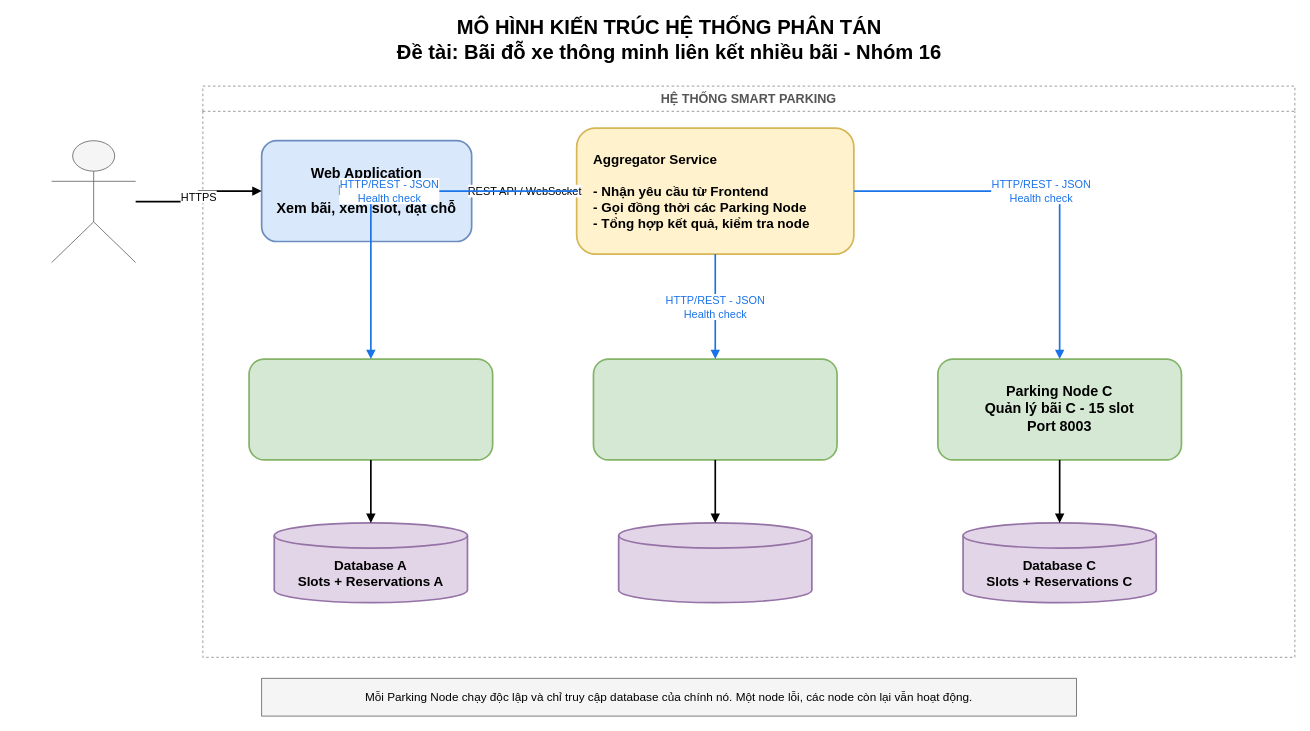
The diagram is 1310 pixels wide and 731 high, and some of its shapes have lost their labels. The shapes that lost their labels are listed below. From the top down, each one's centre as x and y in pixels, then its label:
(93,201): Người dùng Khách / Nhân viên / Admin
(370,409): Parking Node A Quản lý bãi A - 20 slot Port 8001
(714,409): Parking Node B Quản lý bãi B - 30 slot Port 8002
(714,562): Database B Slots + Reservations B
